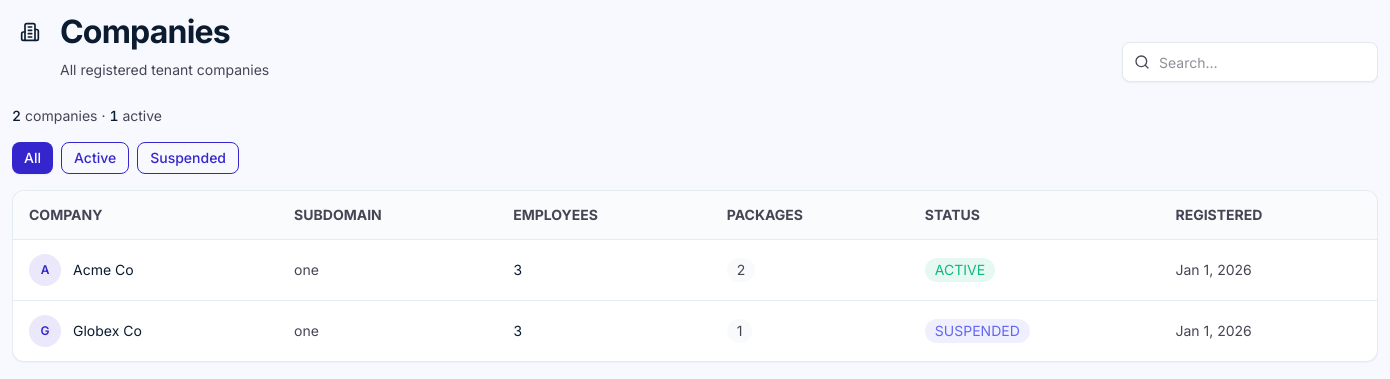
CompaniesList polish › filters by status
What coordinates should you click on to do the following:
click the button "Suspended"
I would click on:
 (188, 158)
Its box is [137,142,239,174].
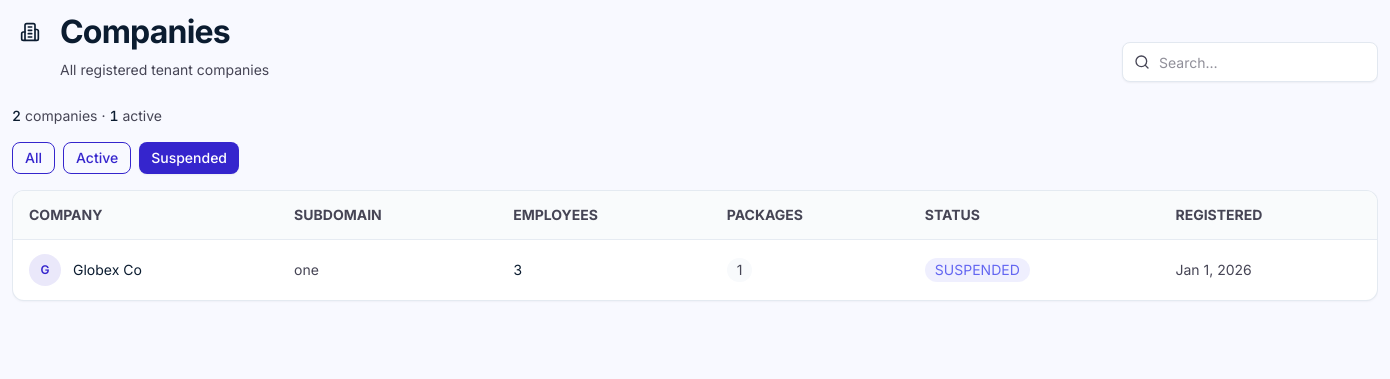
Expected: the text "Globex Co" is shown, [73,261,142,278]
Now the text "Acme Co" is gone
